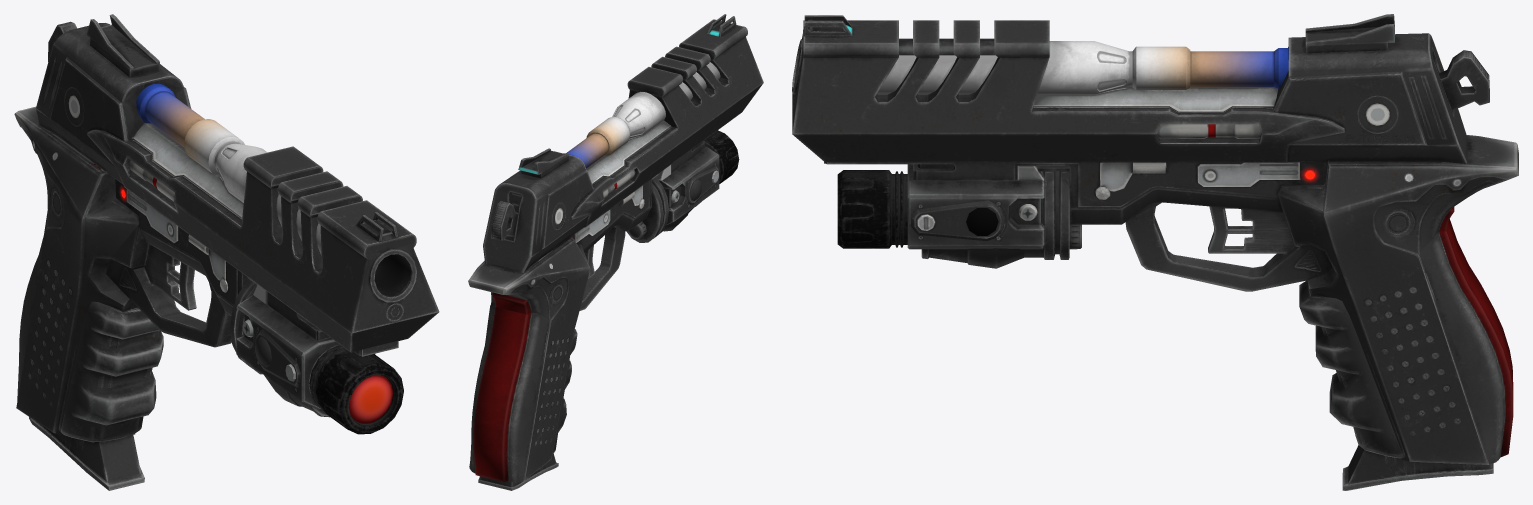
The picture shows the model from 3 angles, left to right: view 1: azimuth 30°, elevation 25°; view 2: azimuth 150°, elevation 25°; view 3: azimuth 270°, elevation 25°; orthographic projection. The views are drawn at different scales.
Visible parts, largest first — view 1: Hand_gun_L; view 2: Hand_gun_L; view 3: Hand_gun_L.
Boxes of the visible parts, x1,y1,x2,y2 form: Hand_gun_L: (14,14,439,490); Hand_gun_L: (468,14,763,490); Hand_gun_L: (792,14,1518,490).
Size of the model in its own units: 0.3534 by 1.41 by 2.
1 material, 1 textured.
